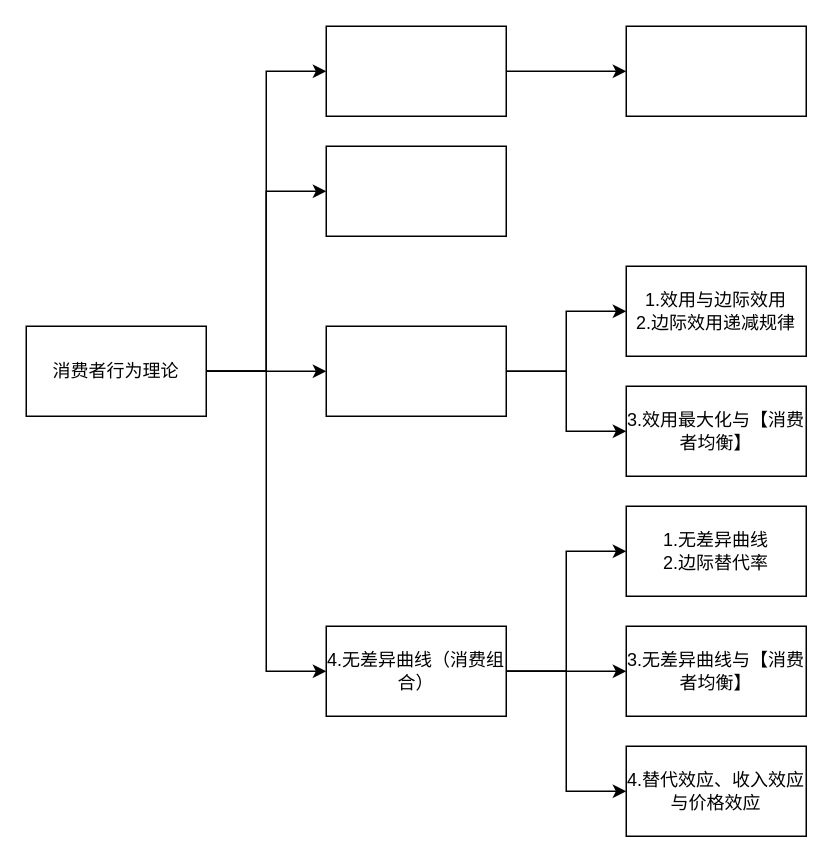
This 833x863 diagram has some shape labels left out. The shapes that lost their labels are listed below. From the top down, each one's centre as x and y in pixels, then its label:
(415,70): 1.消费者行为
(415,190): 2.预算约束曲线
(415,370): 3.【边际】【效用】
